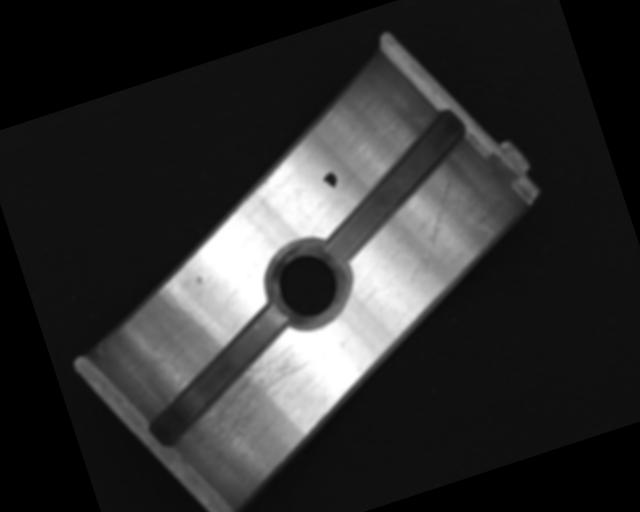blot: (320, 170, 339, 191)
bruise: (194, 274, 204, 286)
gap: (297, 105, 493, 266), (125, 300, 312, 449)
hole: (259, 233, 358, 337)
nick: (382, 176, 480, 283)
scratch: (163, 334, 347, 482)
